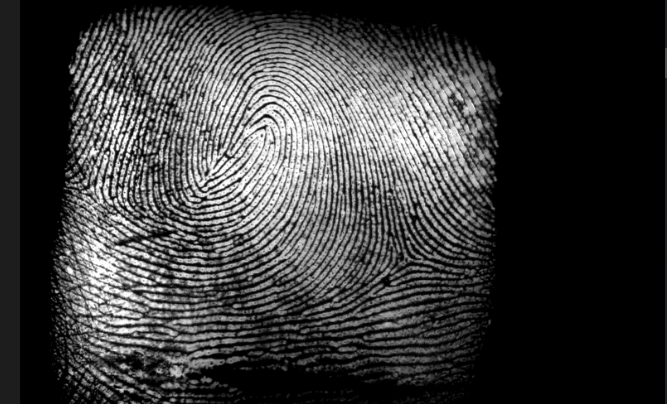nucelo: (239, 118, 270, 167)
verticilo: (388, 245, 423, 279), (74, 172, 107, 207)
